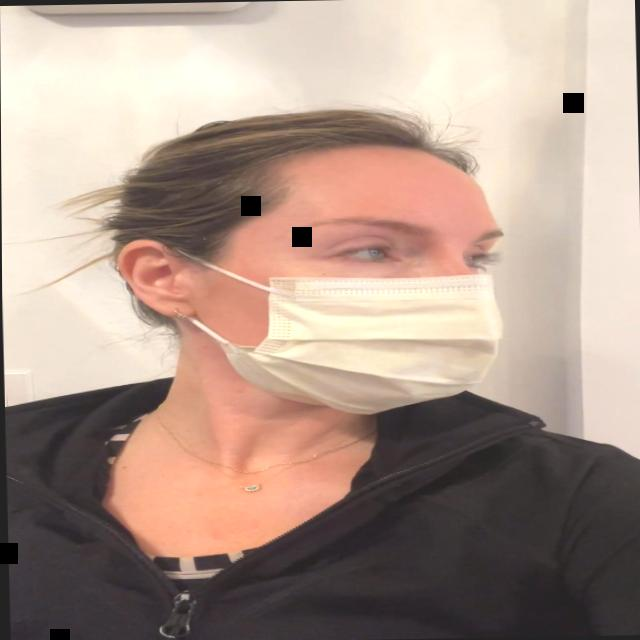Mask: (163, 144, 509, 418)
